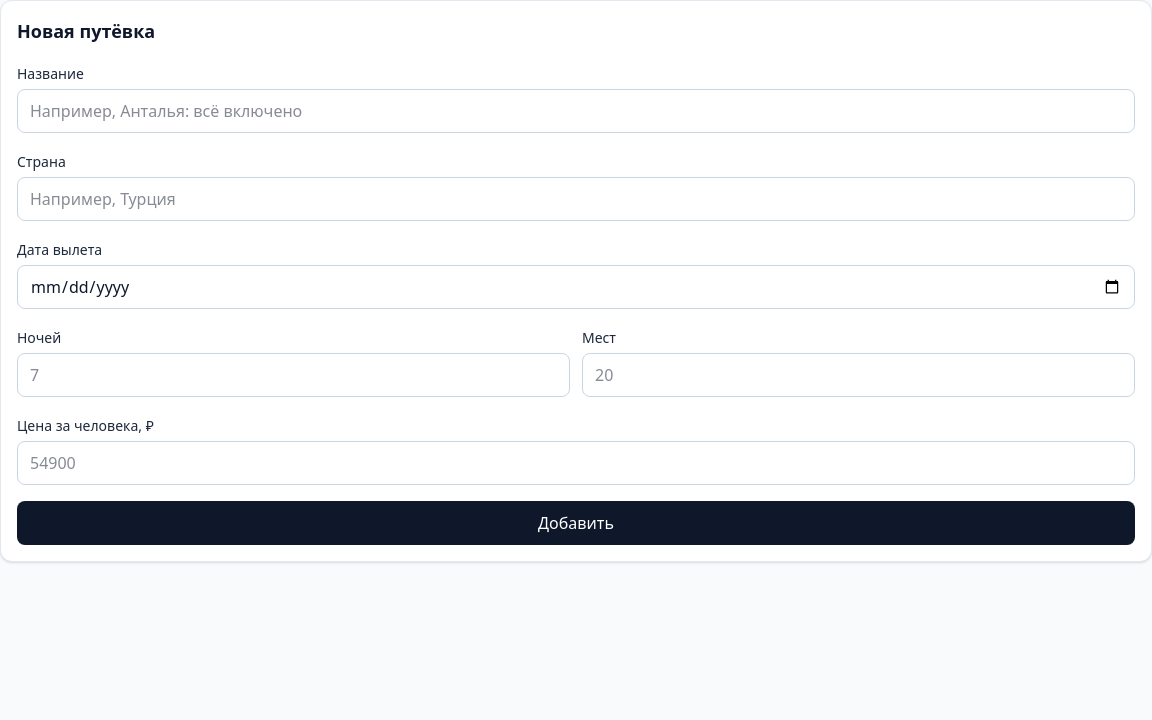
it: TourForm › ошибка валидации: не отправляет и показывает сообщения у полей
Click the button "Добавить" at (576, 523), box [17, 501, 1135, 545]
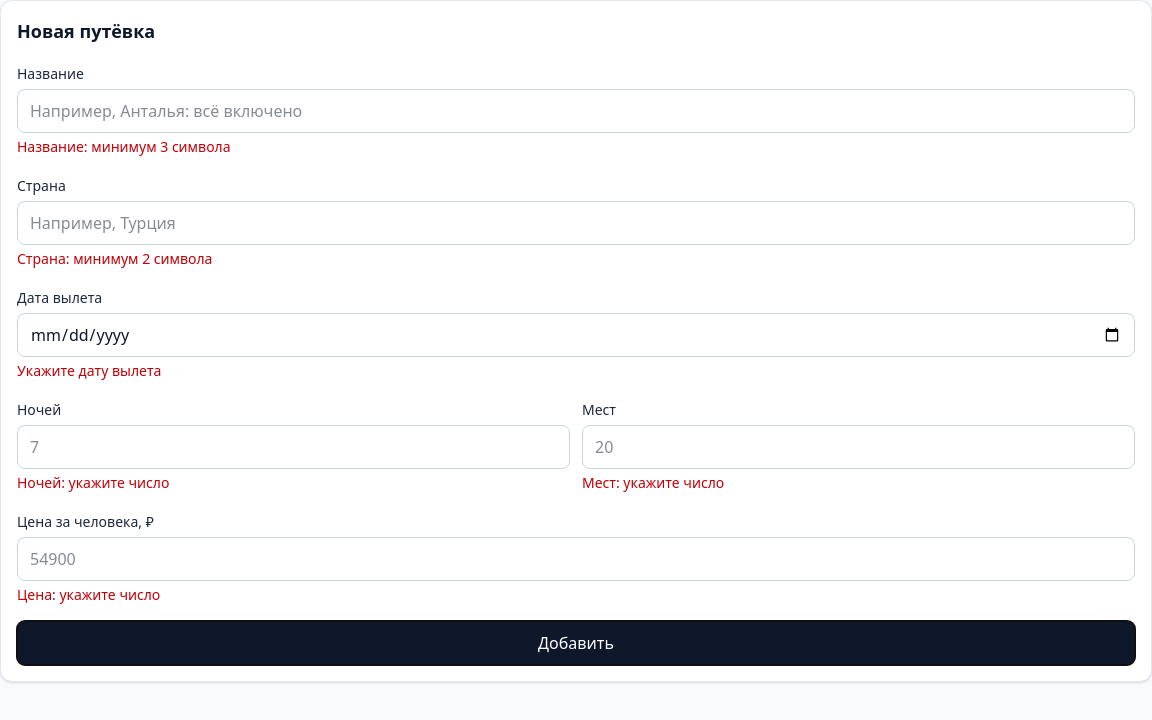
Expected: the text "Название: минимум 3 символа" is shown, [17, 137, 230, 156]
Expected: the text "Укажите дату вылета" is shown, [17, 361, 162, 380]
Expected: the text "Цена: укажите число" is shown, [17, 585, 160, 604]
